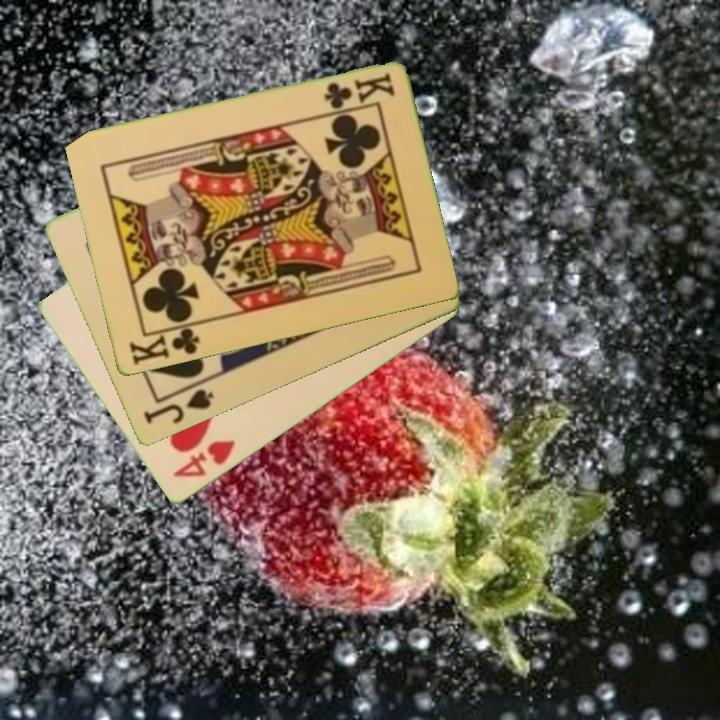4h: (169, 437, 238, 481)
Js: (139, 386, 217, 427)
Kc: (125, 320, 203, 369), (320, 70, 398, 113)
